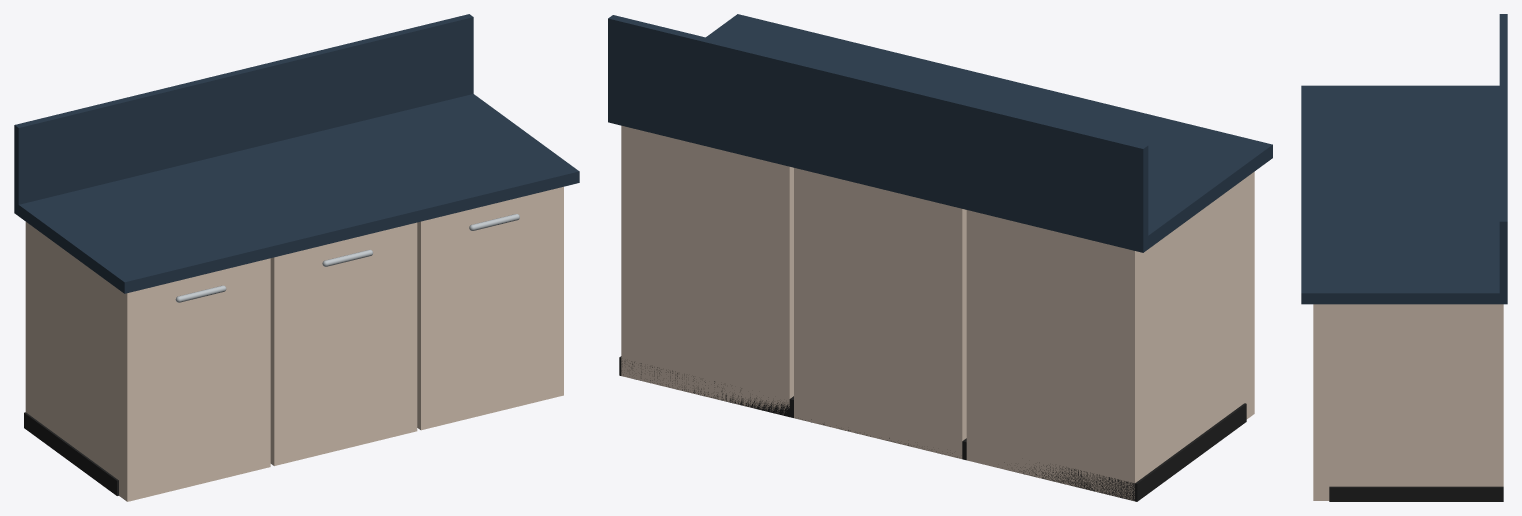
Rendered from plan_de_travail_cuisine (1).glb.
3 renders of one model, left to right at view 1: azimuth 30°, elevation 25°; view 2: azimuth 150°, elevation 25°; view 3: azimuth 270°, elevation 25°, orthographic. The views are drawn at different scales.
Size of the model in its own units: 6.2 by 3.95 by 2.6.
